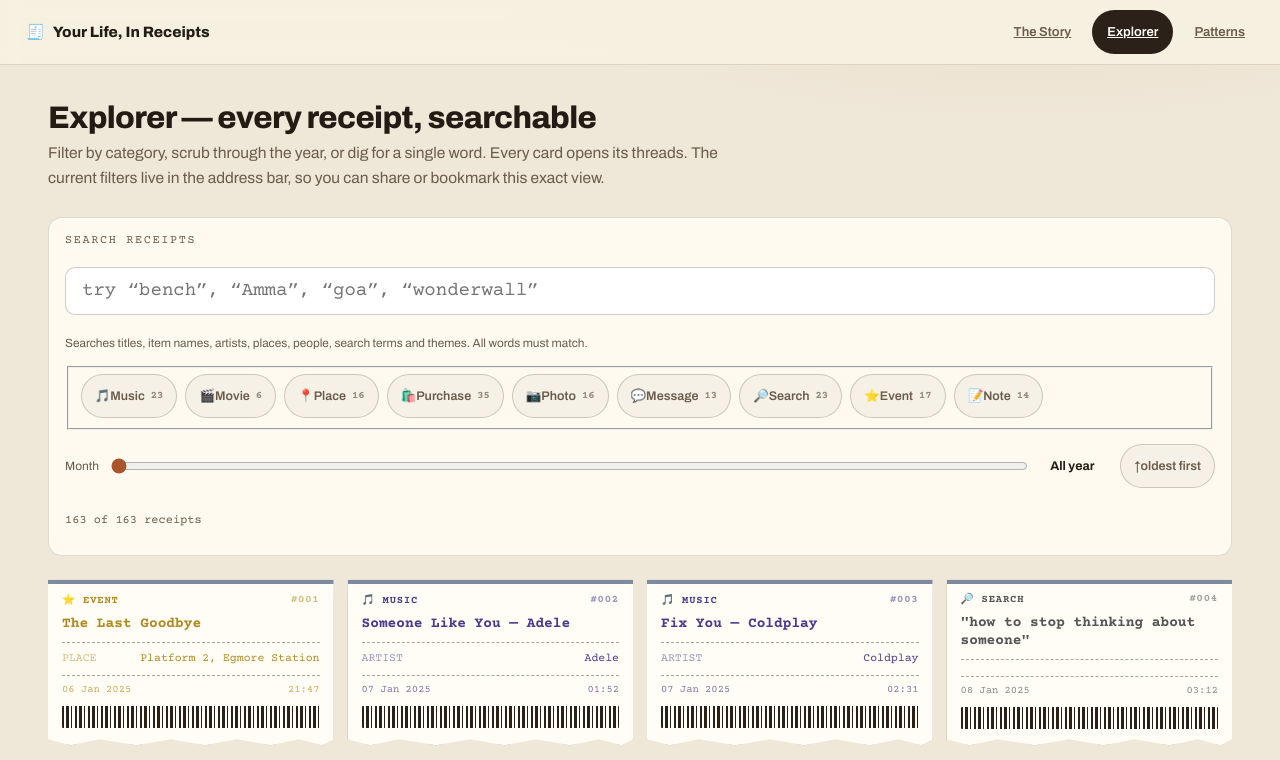
Test case: application flow › filters as the visitor types (debounced into the URL)
The width and height of the screenshot is (1280, 760).
Expected: the heading "Explorer — every receipt, searchable" is shown, [48,101,596,135]
Type "cubbon" into the search field labelled "Search receipts" at (640, 291), box [65,267,1215,315]
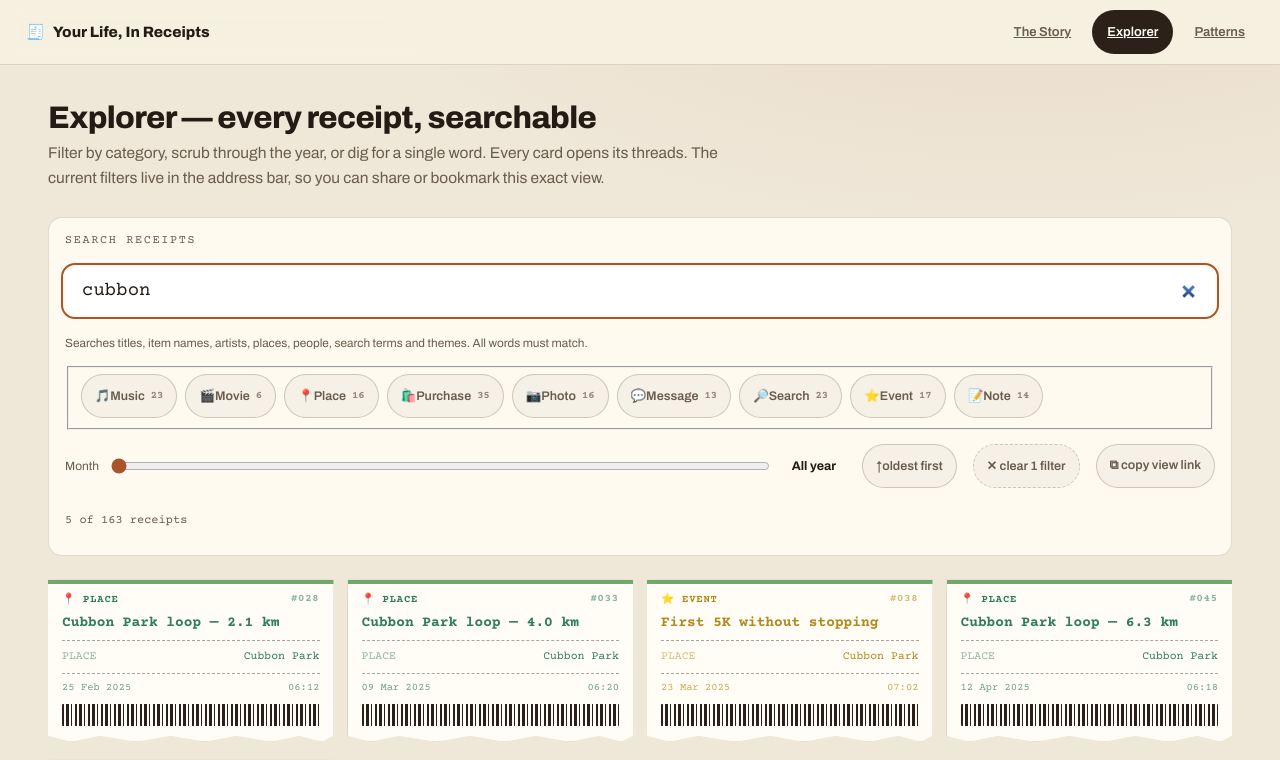
Expected: the text with test id "result-count" reads "5 of 163 receipts", [65,514,187,526]
